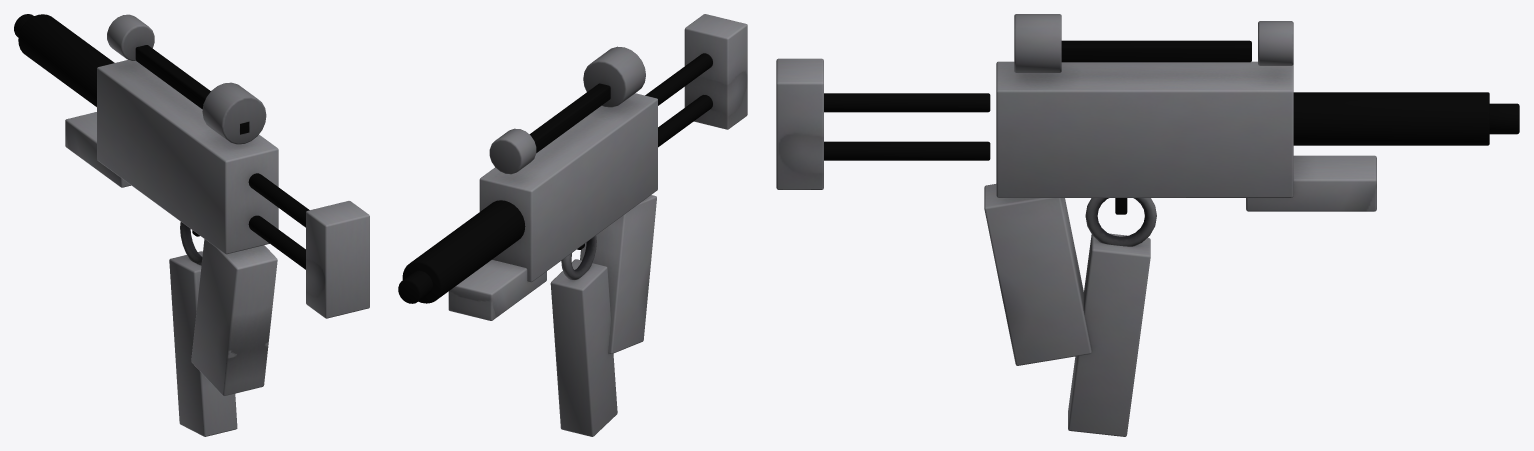
File: smg.glb
3 views of the same model, side by side, from view 1: azimuth 30°, elevation 25°; view 2: azimuth 150°, elevation 25°; view 3: azimuth 270°, elevation 25° (orthographic). The views are drawn at different scales.
Visible parts, largest first — view 1: smg; view 2: smg; view 3: smg.
Boxes of the visible parts, x1=… form: smg: x1=14, y1=14, x2=369, y2=436; smg: x1=398, y1=14, x2=747, y2=436; smg: x1=776, y1=14, x2=1519, y2=436.
Bounding box in the file's own units: 0.12 × 0.7643 × 1.25.
Materials: 5 (5 with a texture image).
